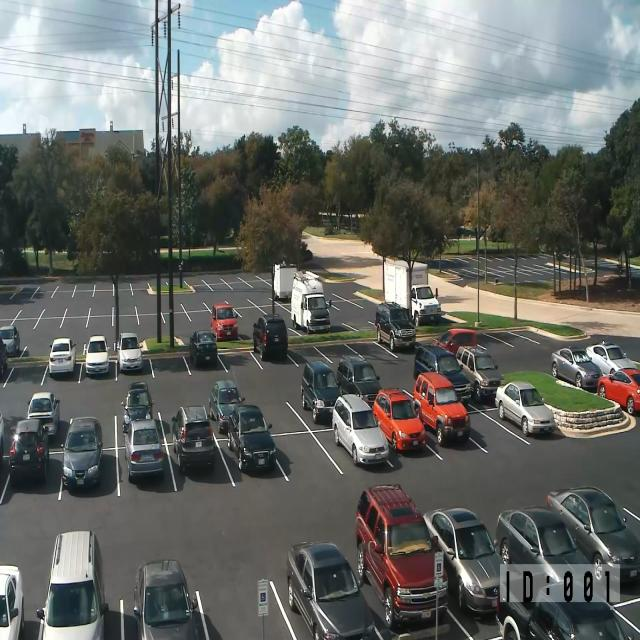car: (356, 483, 448, 630), (494, 506, 605, 605), (546, 485, 640, 583), (286, 540, 375, 640), (423, 506, 503, 614), (36, 530, 109, 639), (133, 558, 210, 640), (496, 596, 631, 640), (413, 371, 471, 446), (332, 393, 388, 466), (413, 342, 472, 402), (494, 381, 556, 436), (373, 388, 426, 452), (227, 404, 276, 473), (60, 416, 103, 489), (171, 405, 215, 473), (455, 344, 504, 402), (301, 359, 342, 424), (8, 418, 49, 482), (124, 418, 164, 482), (336, 354, 383, 408), (551, 346, 603, 391), (596, 368, 640, 415), (375, 301, 416, 351), (208, 379, 245, 433), (586, 341, 639, 376), (0, 564, 24, 640), (120, 381, 154, 434), (431, 327, 486, 359), (252, 313, 288, 361), (26, 391, 60, 439), (410, 283, 441, 327), (610, 596, 640, 640), (83, 335, 110, 376), (210, 302, 238, 341), (116, 332, 143, 372), (189, 330, 217, 368), (49, 337, 76, 375), (0, 324, 20, 356), (0, 338, 7, 378), (0, 410, 4, 467), (300, 239, 308, 251)
